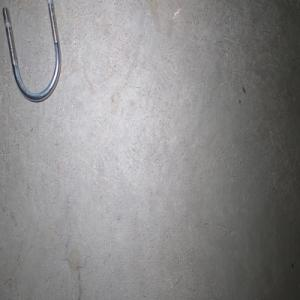ClampPart: (1, 0, 62, 103)
